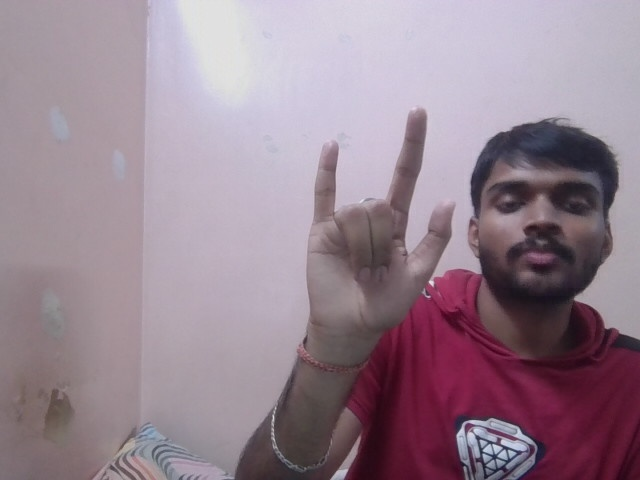I Love You: (297, 96, 456, 333)
